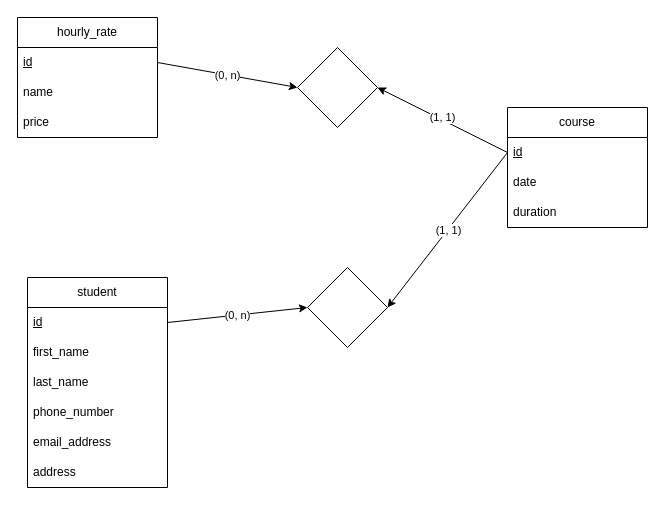
This 665x505 diagram has some shape labels left out. The centre of each missing label's shape, as x and y in pixels:
has: the point at 337,87
takes: the point at 347,307
